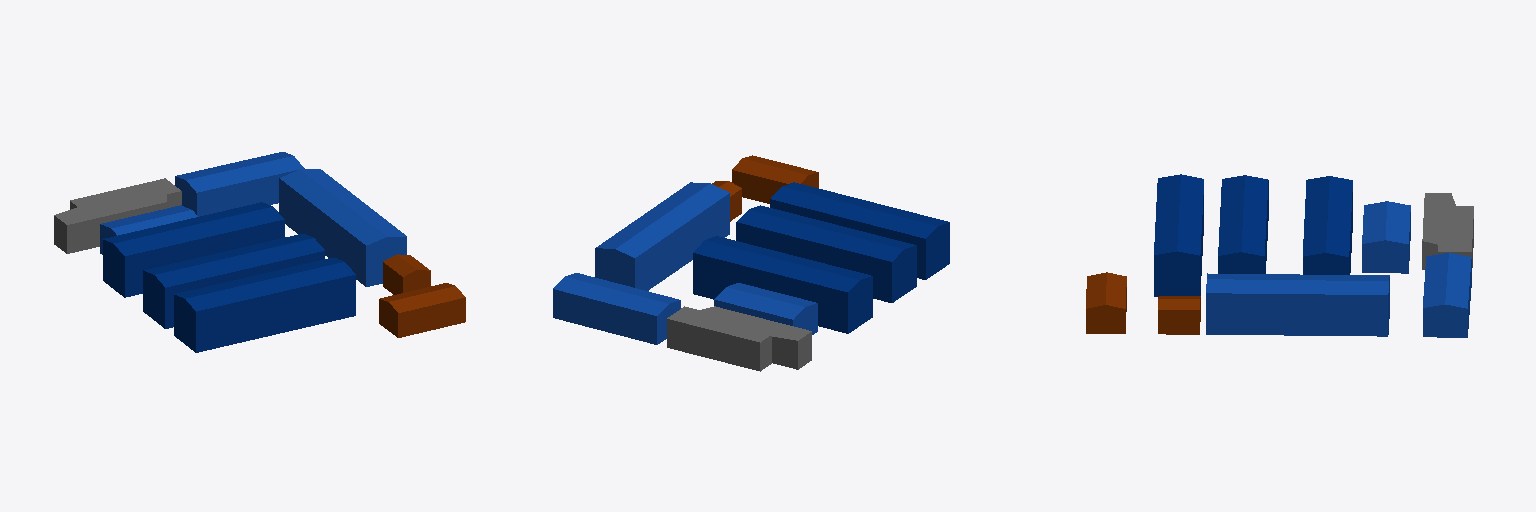
The model's file is house02.obj.
The picture shows the model from 3 angles: view 1: azimuth 30°, elevation 25°; view 2: azimuth 150°, elevation 25°; view 3: azimuth 270°, elevation 25°; orthographic projection.
Visible parts, largest first — view 1: Line1702, Line1703, Line1700, Line1701, Line1698, Line1697, Line1705, Line1704, Line1699; view 2: Line1700, Line1703, Line1701, Line1697, Line1702, Line1698, Line1699, Line1705; view 3: Line1703, Line1702, Line1701, Line1700, Line1698, Line1699, Line1697, Line1705, Line1704.
Part boxes in pixels (left/top/right/bottom): Line1702: left=174, top=257, right=355, bottom=352; Line1703: left=279, top=169, right=406, bottom=286; Line1700: left=103, top=202, right=284, bottom=297; Line1701: left=143, top=234, right=324, bottom=328; Line1698: left=175, top=152, right=304, bottom=216; Line1697: left=54, top=178, right=181, bottom=253; Line1705: left=379, top=283, right=465, bottom=337; Line1704: left=383, top=254, right=430, bottom=294; Line1699: left=100, top=205, right=197, bottom=254; Line1700: left=693, top=236, right=872, bottom=333; Line1703: left=595, top=182, right=729, bottom=290; Line1701: left=736, top=205, right=916, bottom=302; Line1697: left=667, top=306, right=811, bottom=371; Line1702: left=770, top=182, right=949, bottom=279; Line1698: left=553, top=273, right=680, bottom=344; Line1699: left=714, top=283, right=817, bottom=334; Line1705: left=732, top=155, right=818, bottom=203; Line1703: left=1206, top=273, right=1389, bottom=336; Line1702: left=1154, top=174, right=1203, bottom=296; Line1701: left=1218, top=175, right=1268, bottom=273; Line1700: left=1303, top=176, right=1352, bottom=274; Line1698: left=1423, top=253, right=1471, bottom=337; Line1699: left=1362, top=201, right=1410, bottom=273; Line1697: left=1422, top=193, right=1473, bottom=269; Line1705: left=1086, top=272, right=1126, bottom=333; Line1704: left=1158, top=296, right=1200, bottom=334.
Bounding box in the file's own units: 1204 × 217 × 1671.